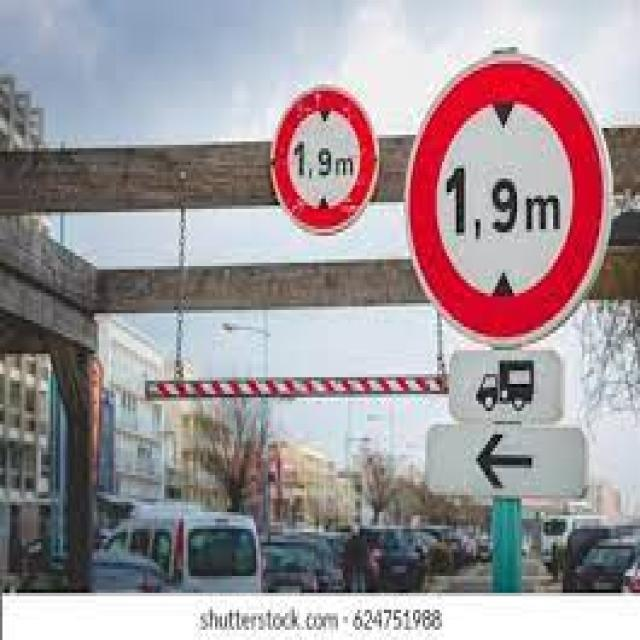height limit: (401, 49, 614, 355)
